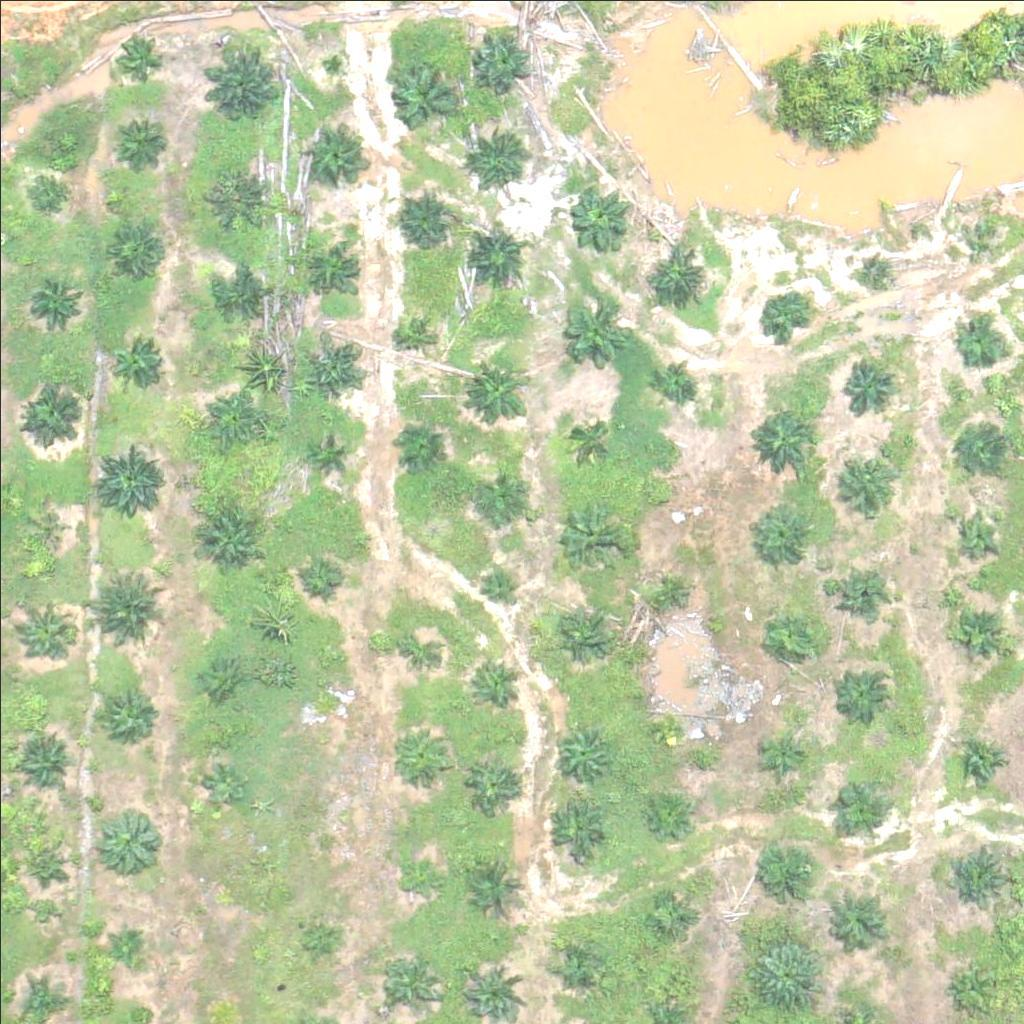Kelapa_Sawit: (747, 833, 822, 909), (552, 507, 627, 583), (747, 937, 822, 1013), (205, 45, 280, 121), (391, 58, 466, 134), (93, 565, 168, 640), (91, 451, 166, 526), (304, 341, 367, 404), (567, 300, 630, 363), (99, 813, 162, 876), (830, 891, 893, 954), (545, 795, 608, 858), (945, 845, 1008, 908), (23, 379, 86, 442), (18, 272, 81, 335), (470, 123, 533, 186), (571, 191, 634, 254), (303, 122, 366, 185), (471, 26, 534, 89), (469, 359, 531, 422), (752, 411, 814, 474), (201, 503, 263, 566), (99, 686, 161, 749), (834, 448, 896, 511), (554, 603, 616, 666), (466, 851, 528, 914), (379, 950, 441, 1013), (755, 501, 817, 564), (948, 606, 1010, 669), (16, 729, 78, 792), (14, 600, 76, 663), (205, 163, 267, 226), (649, 246, 711, 309), (549, 717, 611, 779), (464, 222, 526, 284), (397, 194, 459, 256), (211, 388, 261, 439), (116, 337, 166, 388), (957, 322, 1007, 373), (953, 421, 1003, 472), (956, 733, 1006, 784), (112, 224, 162, 275), (19, 166, 69, 217), (216, 267, 266, 317), (842, 357, 892, 407), (761, 290, 811, 340), (835, 573, 885, 623), (832, 779, 882, 829), (836, 669, 886, 719), (646, 796, 696, 846), (647, 892, 697, 942), (465, 761, 515, 811), (395, 729, 445, 779), (482, 466, 532, 516), (769, 613, 819, 663), (117, 114, 167, 164), (312, 244, 362, 294), (111, 33, 161, 83), (396, 419, 446, 469), (565, 410, 615, 460), (650, 353, 700, 403), (642, 570, 692, 620), (22, 833, 72, 883), (551, 942, 601, 992), (470, 657, 520, 707), (766, 735, 804, 773), (392, 310, 430, 348), (479, 567, 517, 605), (402, 856, 440, 894), (304, 673, 342, 711), (398, 631, 436, 669), (200, 657, 237, 695), (949, 962, 986, 1000), (25, 508, 62, 546), (314, 435, 351, 473), (299, 560, 337, 597), (960, 518, 997, 556), (108, 925, 145, 963), (300, 920, 337, 957), (205, 770, 242, 807), (861, 262, 886, 287), (658, 720, 683, 745), (651, 485, 676, 510), (956, 228, 981, 253)
